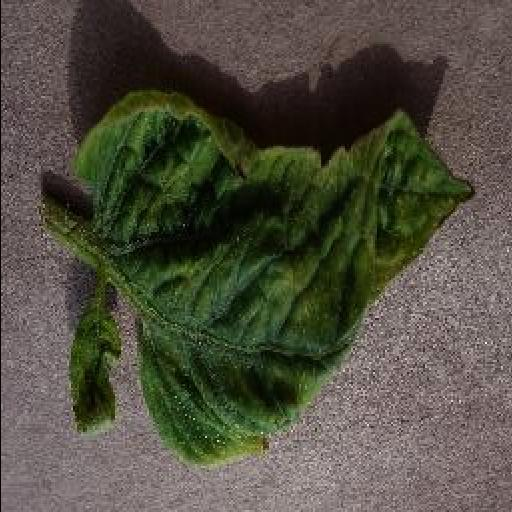disease_tomato: (74, 92, 474, 464)
